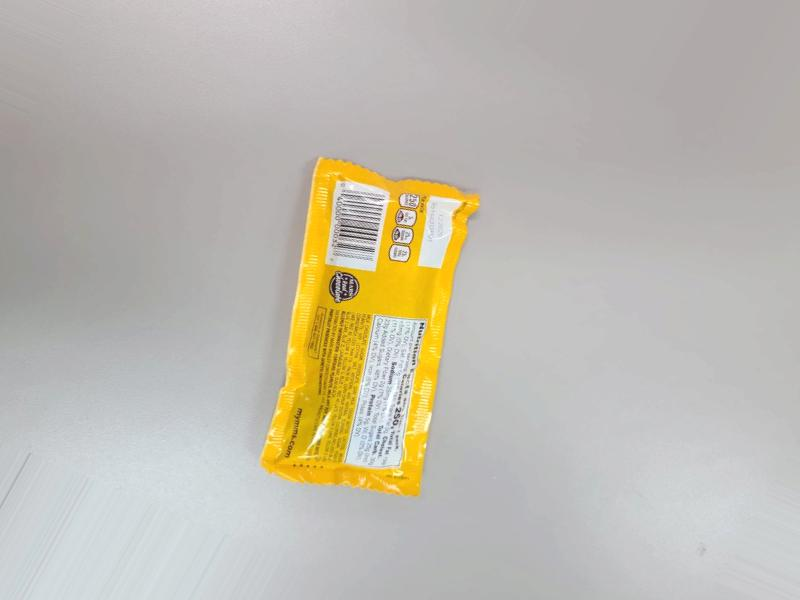m&m: (248, 162, 476, 527)
